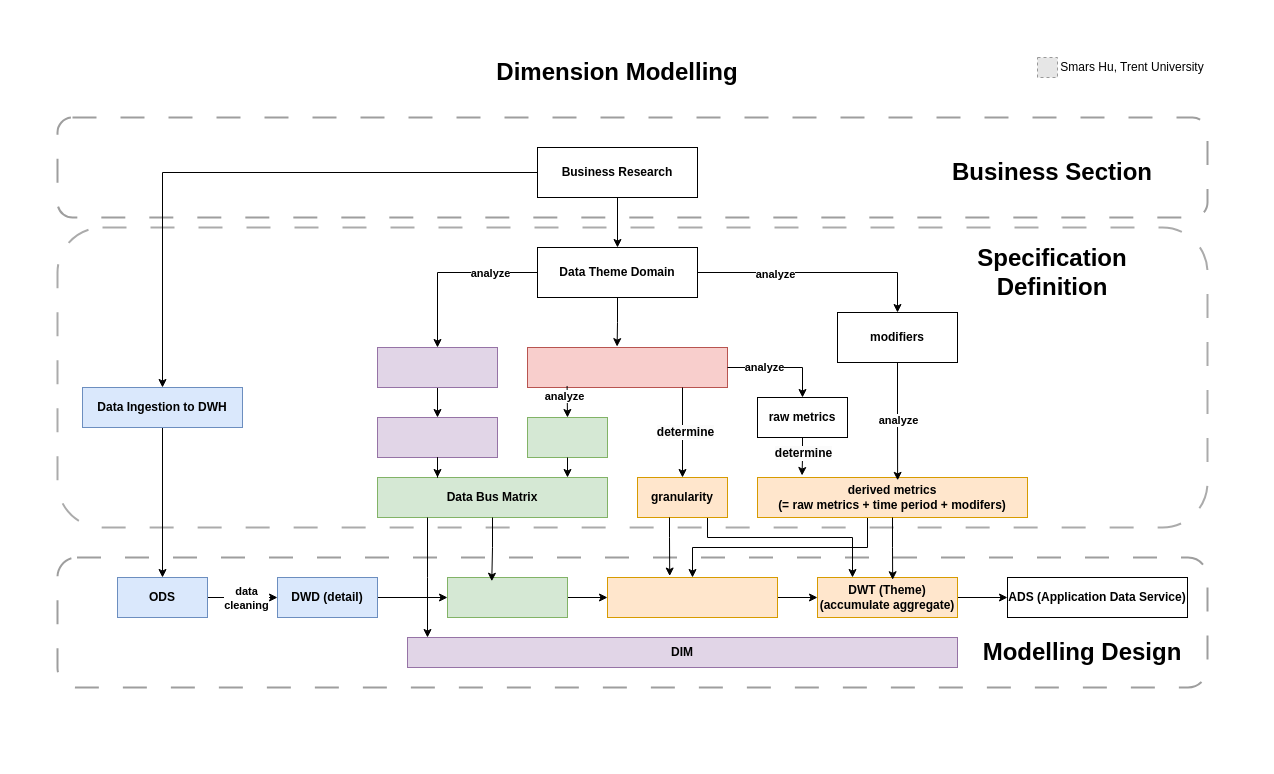
This 1274x774 diagram has some shape labels left out. Grey dashed boxes stand in for pictures. The centre of each missing label's shape, as x and y in pixels:
Business Procedure (CORE): [627,367]
Dimension: [437,367]
Dimension Attributes: [437,437]
DWM (Middle) (original granularity): [507,597]
DWS (summary wide table) (slightly aggregate): [692,597]
facts: [567,437]
